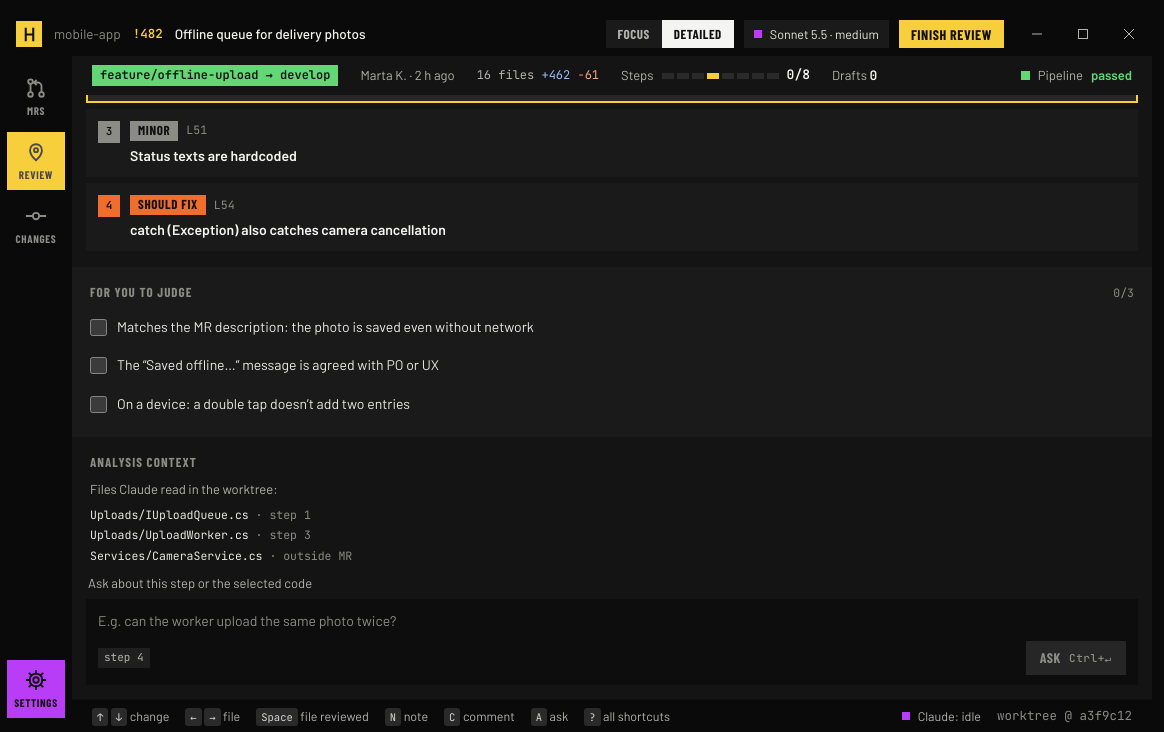
S-04 Guide aside (F-08.7) › F-08.7 in a text field N types instead of moving the focus
(page scrolled)
Click the field labelled "Ask about this step or the selected code". click: click(612, 621)
box: top-left (98, 609), bottom-right (1126, 633)
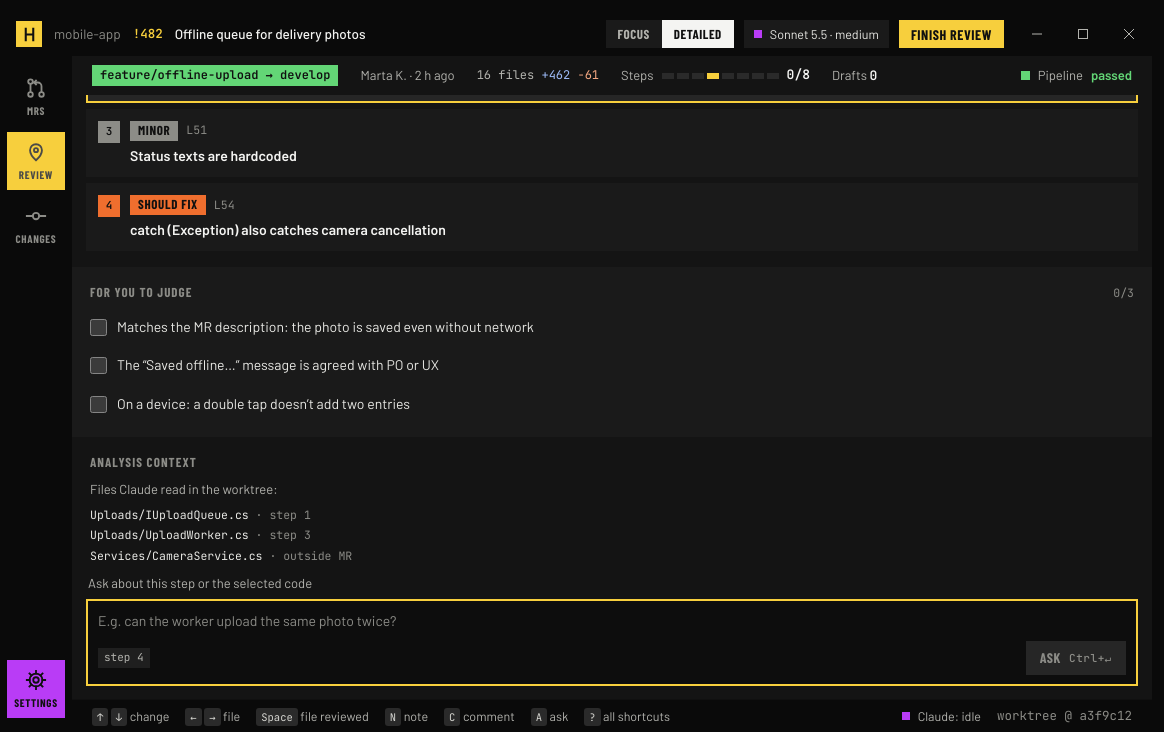
Type keys "n"
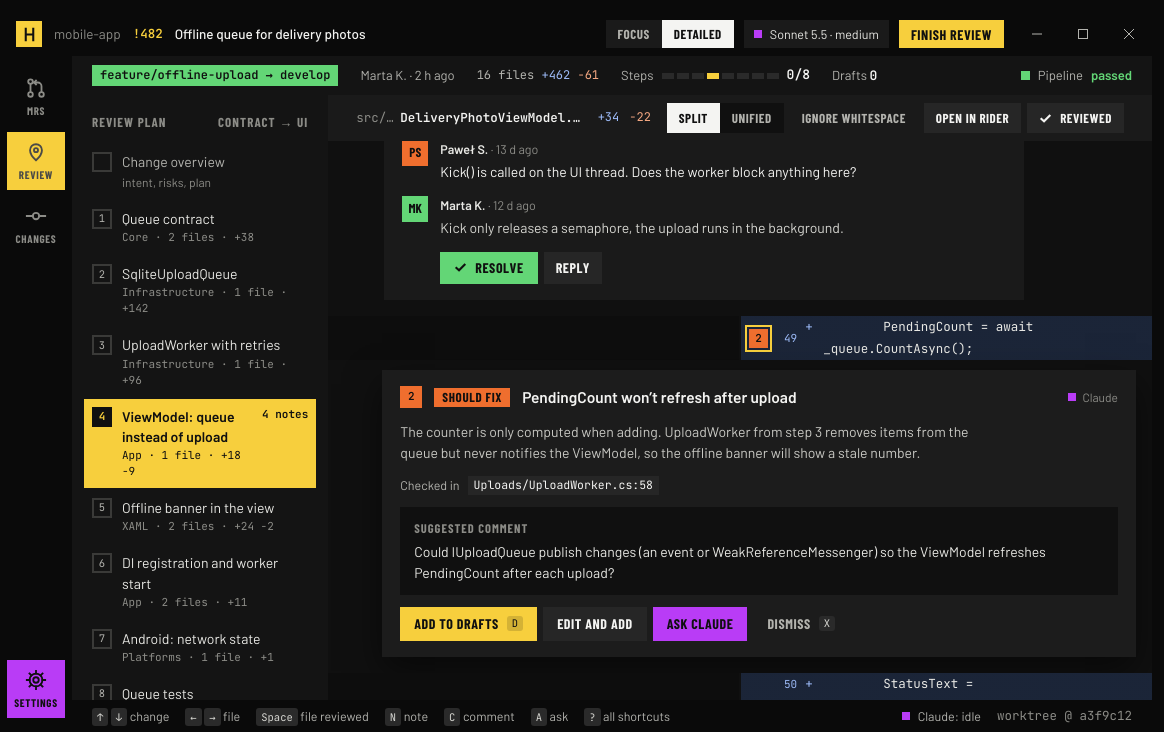
expect the text "PendingCount won’t refresh after upload" is shown: met, box top-left (522, 386), bottom-right (797, 409)
